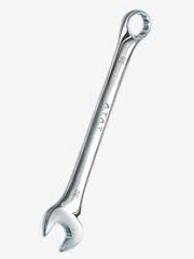Wrench: (44, 10, 156, 249)
